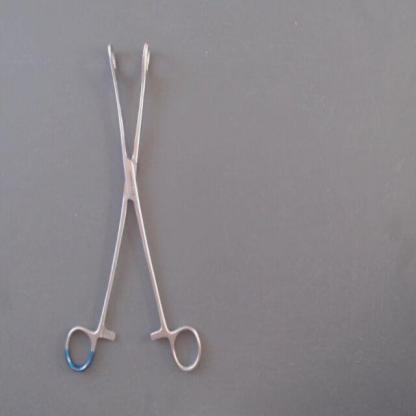Sponge Forceps: (57, 34, 208, 380)
